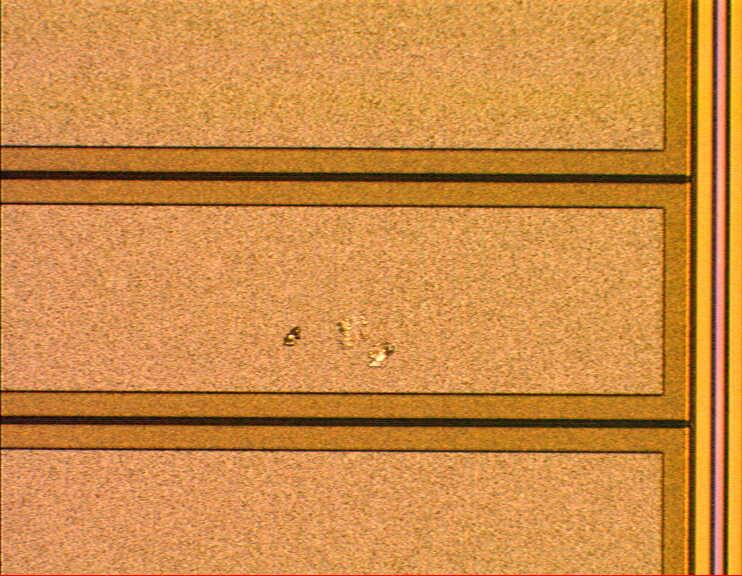SCRATCH: (255, 310, 411, 377)
